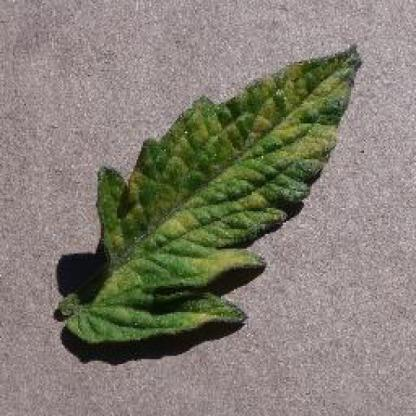Tomato_Leaf_Mold: (70, 42, 361, 345)
